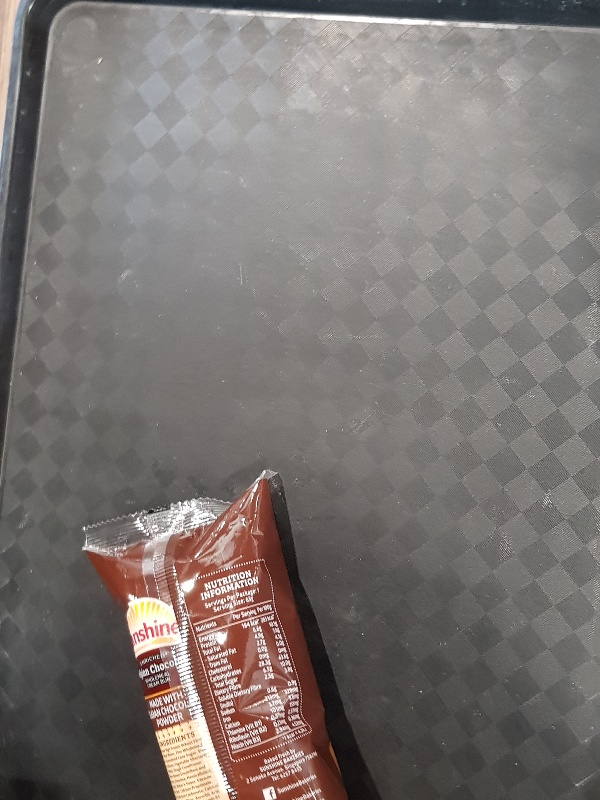Sunshine Belgium Chocolate Wholemeal Cream Bun: (81, 467, 350, 800)
